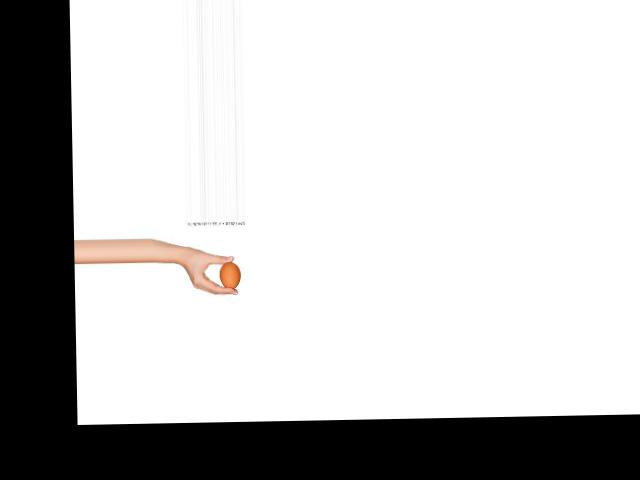egg: (220, 261, 241, 290)
